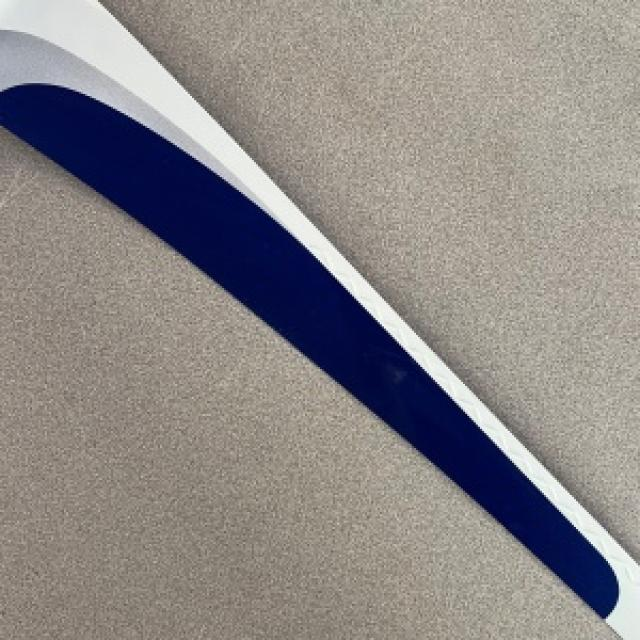healthy: (0, 128, 614, 638)
